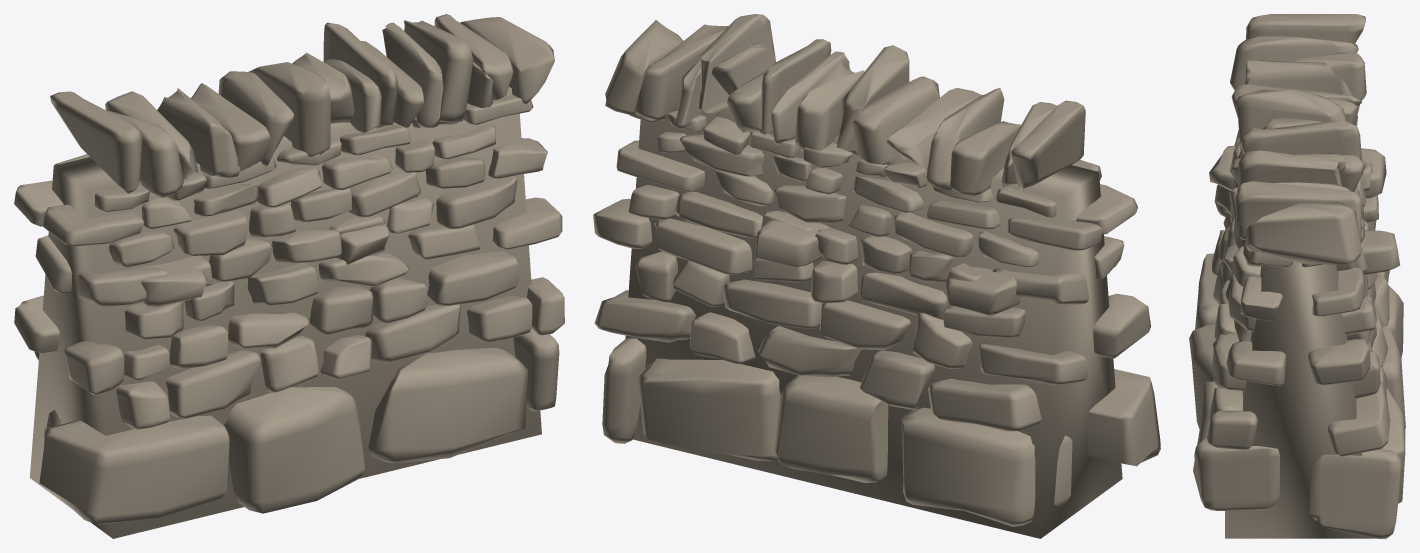
The model's file is boundary.dry_stone.wall_g.glb.
The picture shows the model from 3 angles, left to right: view 1: azimuth 30°, elevation 25°; view 2: azimuth 150°, elevation 25°; view 3: azimuth 270°, elevation 25°; orthographic projection. The views are drawn at different scales.
Parts seen in each view (by area): view 1: main__stone_a98; view 2: main__stone_a98; view 3: main__stone_a98.
Boxes of the visible parts, bbox=[...] form: main__stone_a98: bbox=[14, 14, 564, 538]; main__stone_a98: bbox=[593, 14, 1160, 538]; main__stone_a98: bbox=[1189, 14, 1405, 538].
Size of the model in its own units: 2.32 by 1.75 by 0.9595.
